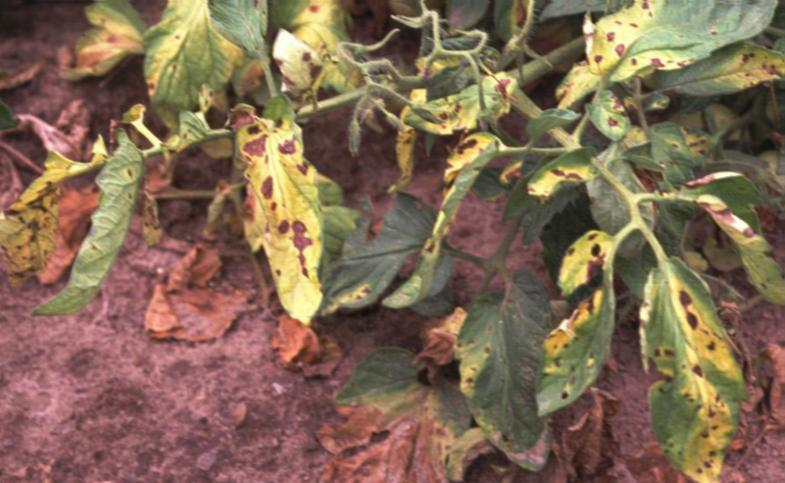Tomato Early blight leaf: (217, 96, 324, 319), (548, 0, 785, 99), (624, 258, 730, 467), (528, 231, 625, 417), (0, 148, 82, 297)
